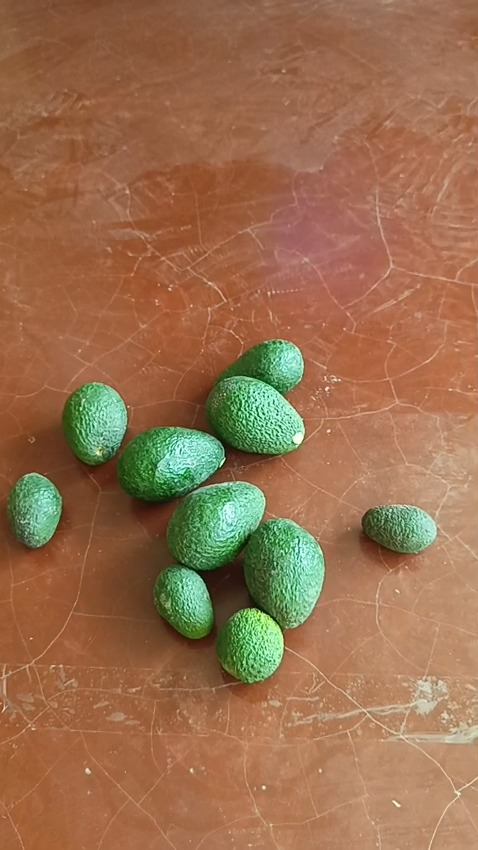Primera: (242, 518, 324, 627), (165, 482, 264, 569), (115, 425, 224, 500), (205, 376, 303, 454)
Segunda: (61, 381, 127, 464), (218, 340, 303, 395)
Tercera: (214, 606, 284, 681), (151, 563, 214, 638), (6, 472, 62, 547), (360, 503, 437, 553)
